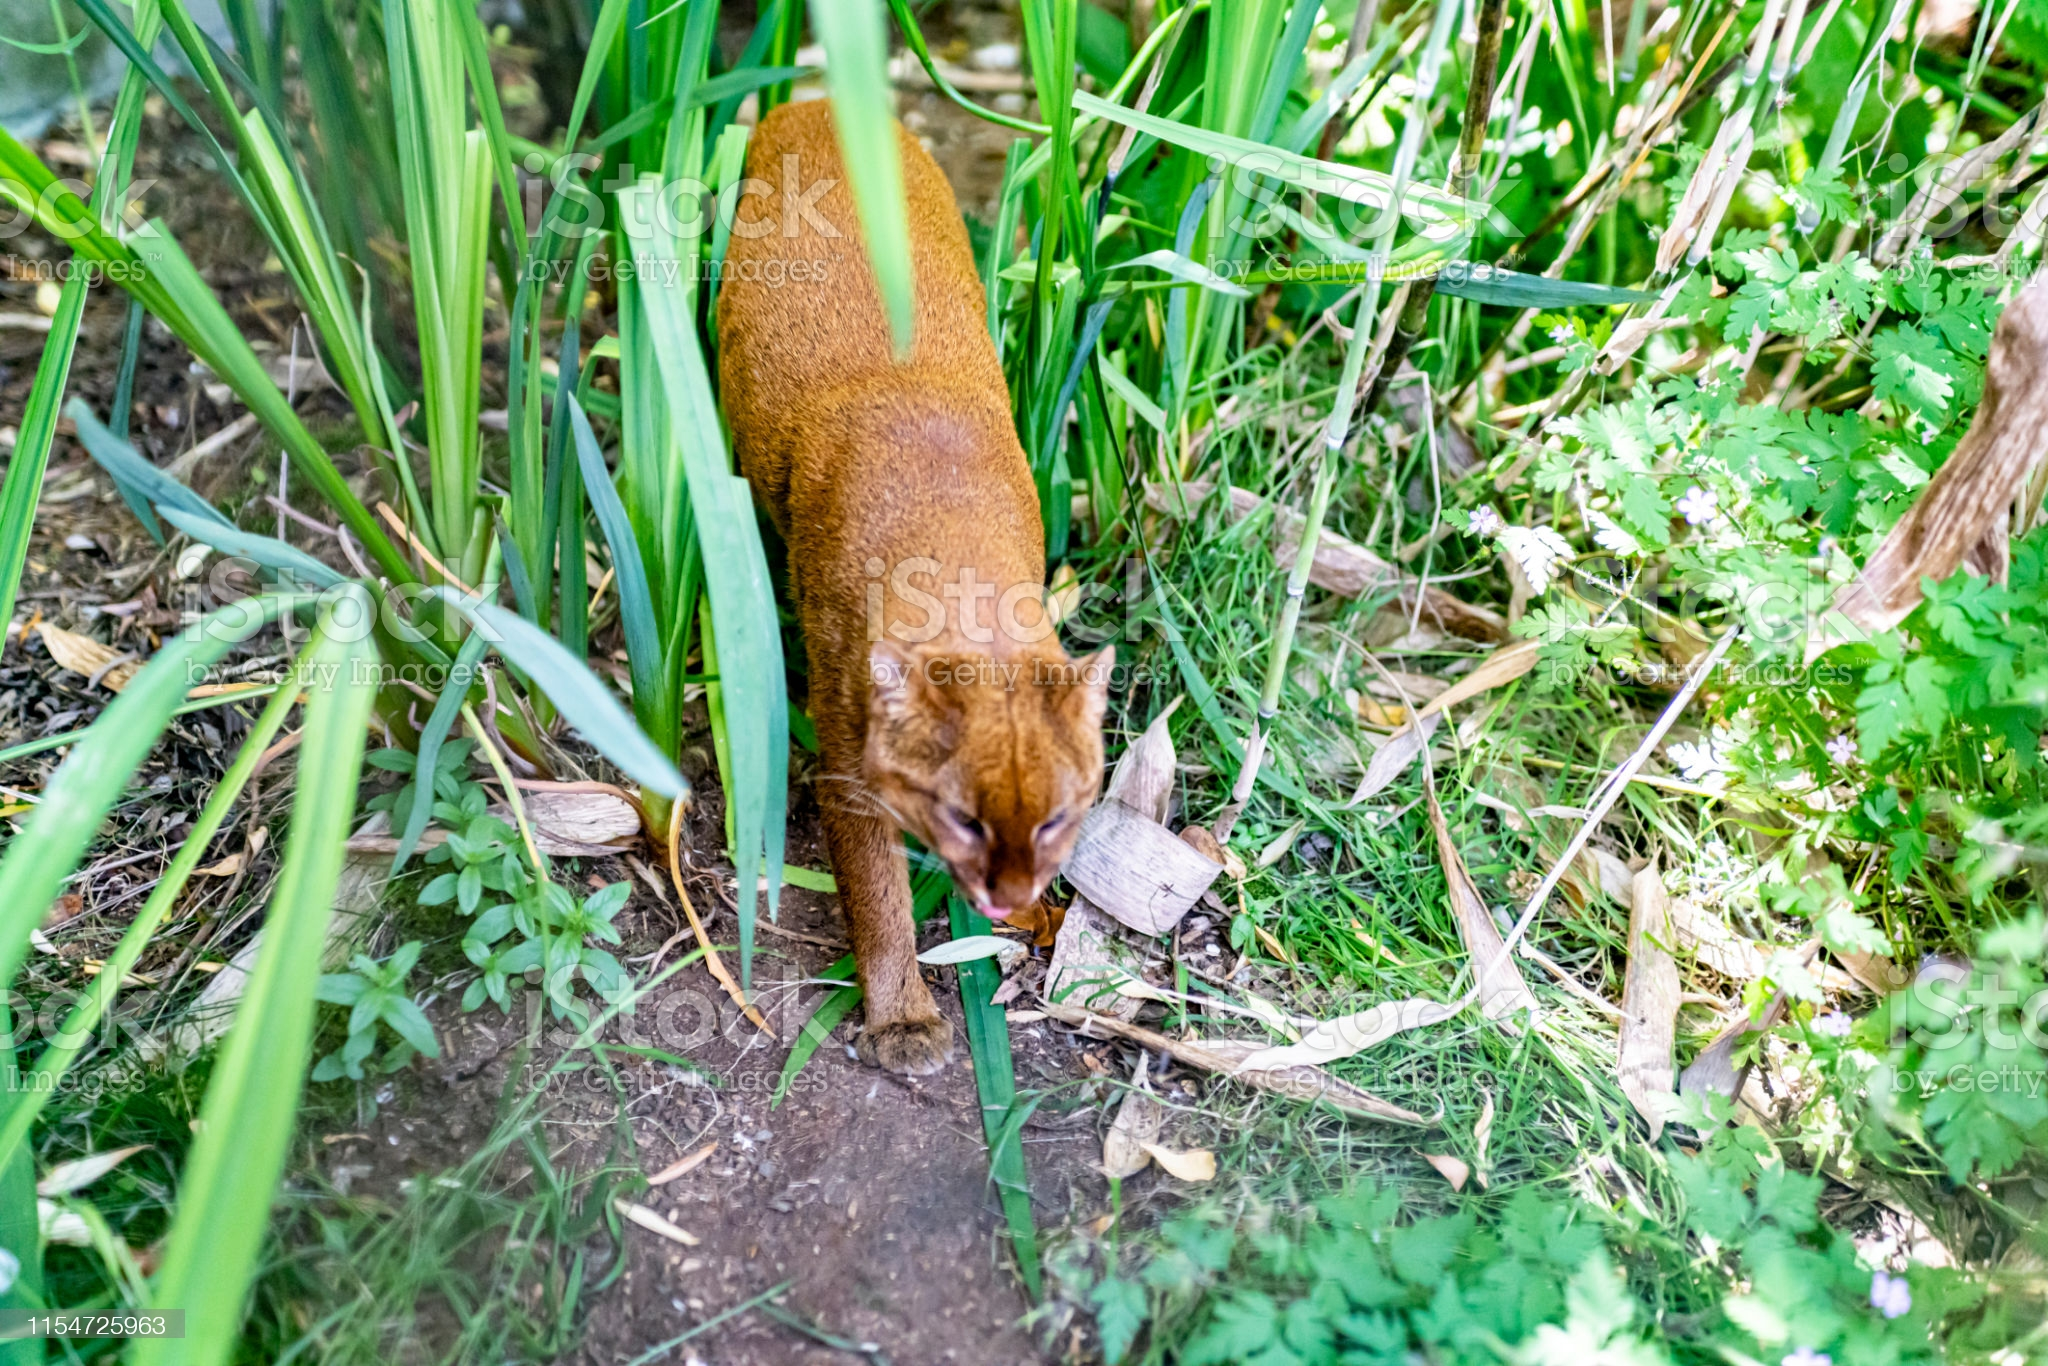Jaguarundi: (670, 82, 1143, 1098)
